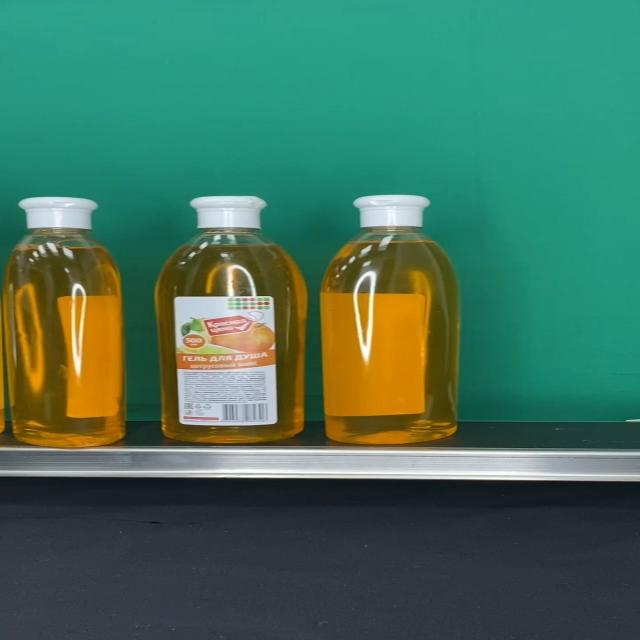Bottle: (156, 196, 307, 442), (322, 195, 460, 444), (2, 196, 126, 446)
Cap: (353, 195, 432, 229), (19, 197, 100, 230), (188, 196, 268, 229)
